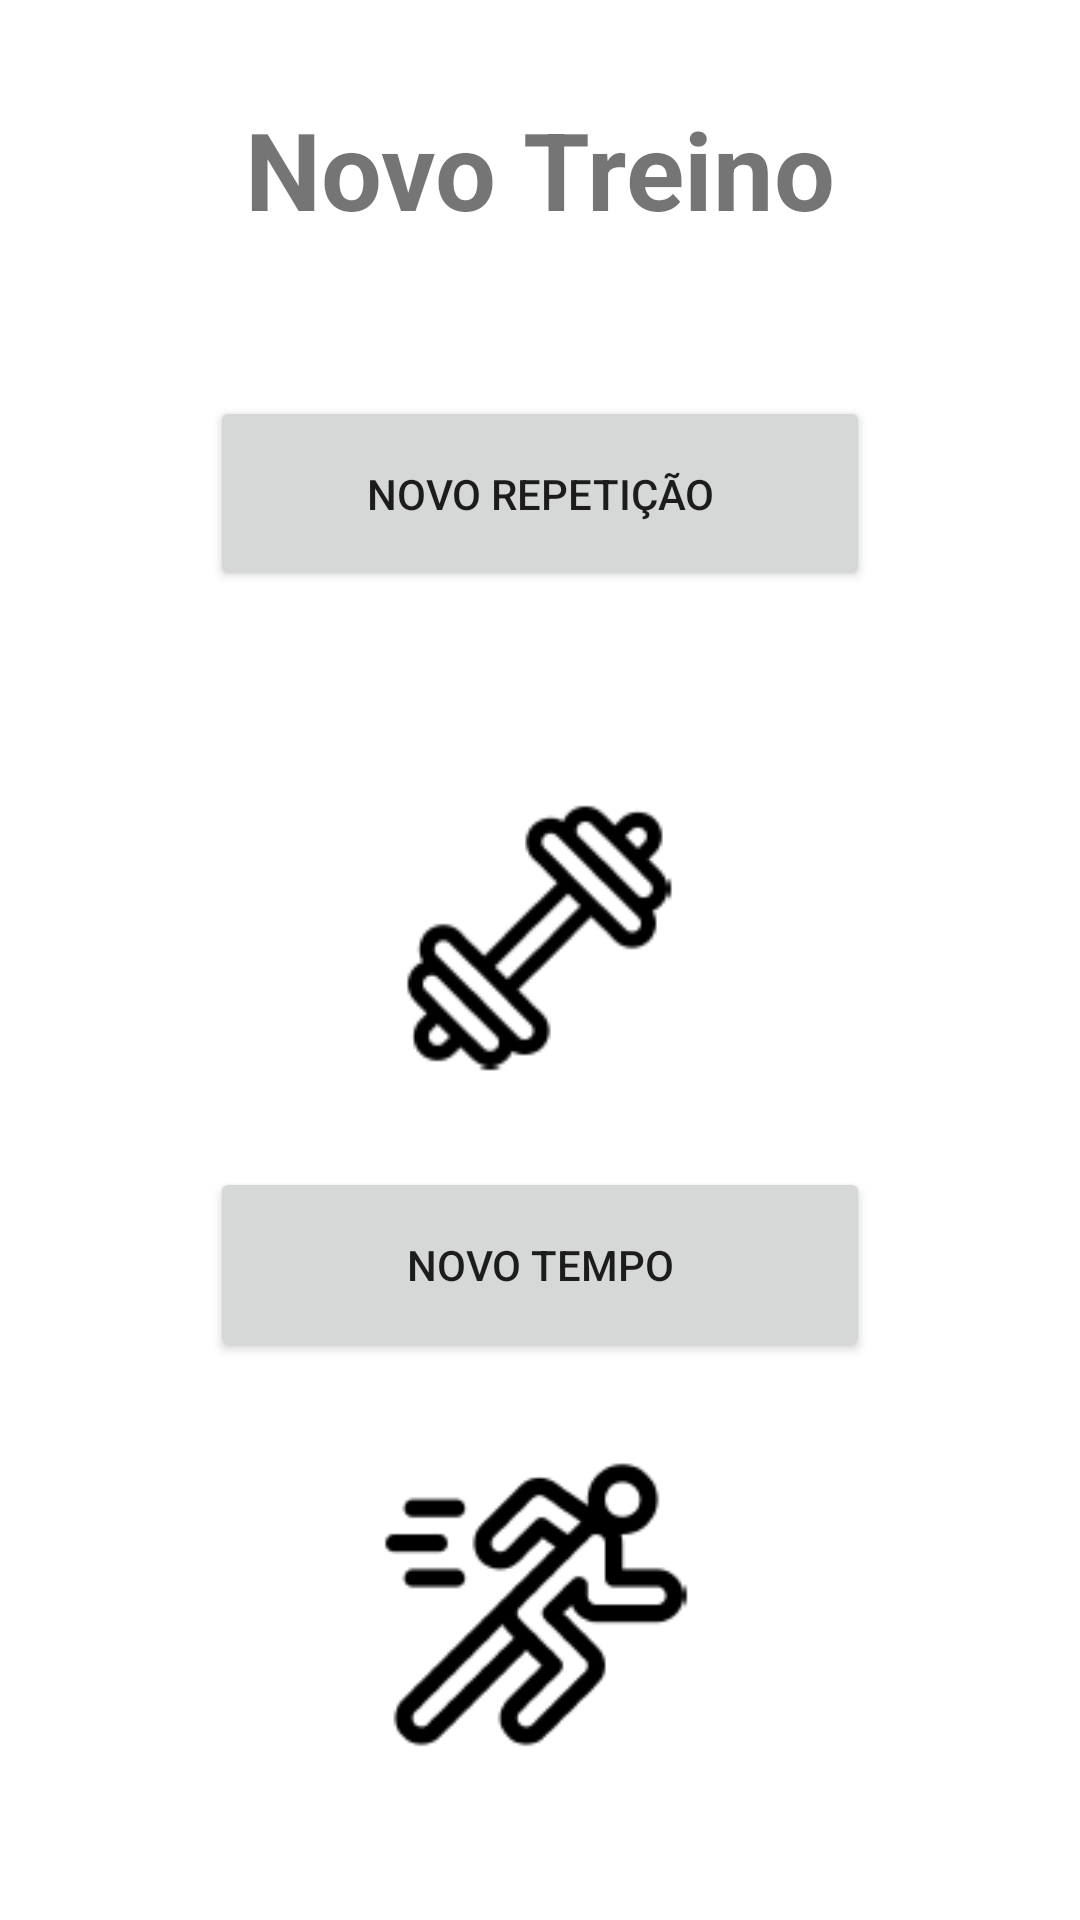

Screen size 1080×1920. Icon name, then its box in pixels as (x1, y1, x2, y2):
exercicio repeticao: (407, 805, 672, 1071)
exercicio tempo: (385, 1463, 688, 1746)
